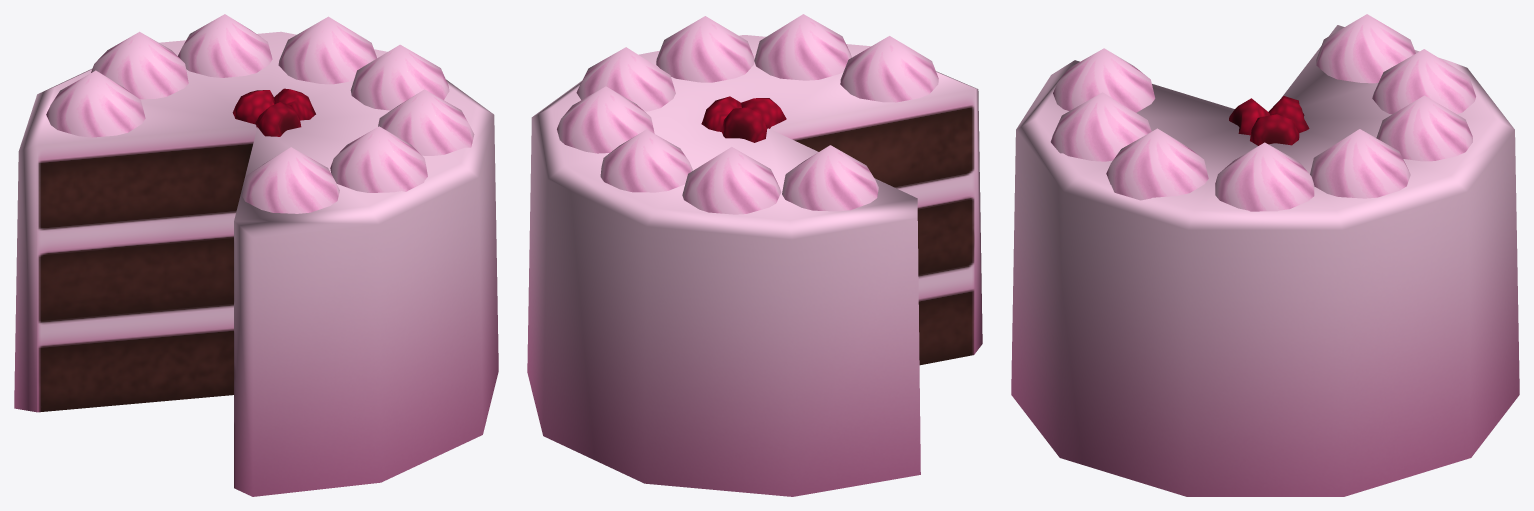
Rendered from Raspberry_Cut.fbx.
3 views of the same model, side by side, from view 1: azimuth 30°, elevation 25°; view 2: azimuth 150°, elevation 25°; view 3: azimuth 270°, elevation 25° (orthographic). The views are drawn at different scales.
Visible parts, largest first — view 1: RasperryCake_Cut; view 2: RasperryCake_Cut; view 3: RasperryCake_Cut.
Part boxes in pixels (x1=…): RasperryCake_Cut: x1=14, y1=14, x2=498, y2=496; RasperryCake_Cut: x1=527, y1=14, x2=982, y2=496; RasperryCake_Cut: x1=1011, y1=14, x2=1519, y2=496.
Bounding box in the file's own units: 76.8 × 57.53 × 81.5.
